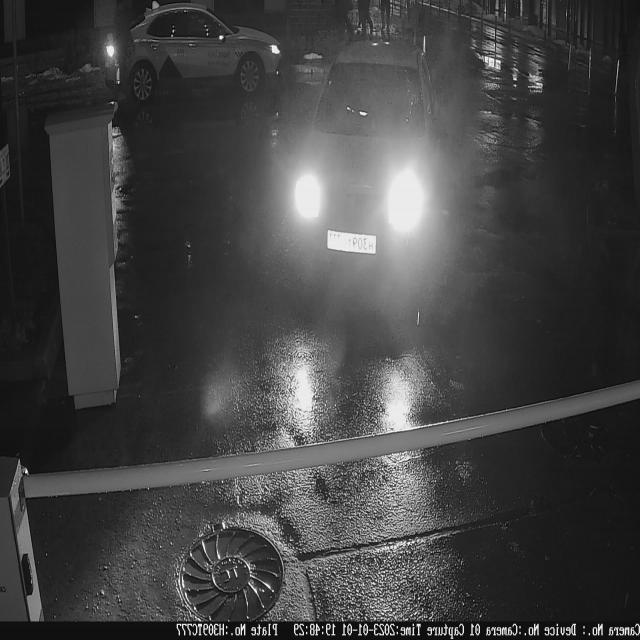car-plate-numbers: (326, 229, 379, 261)
